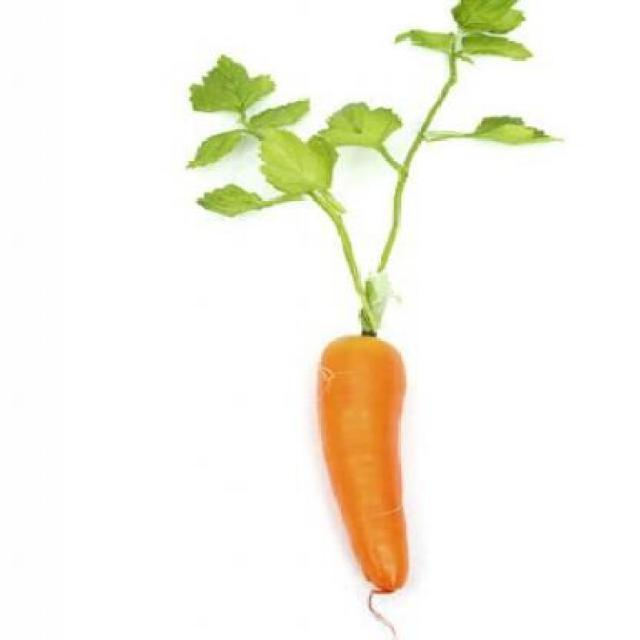carrot: (284, 320, 450, 614)
